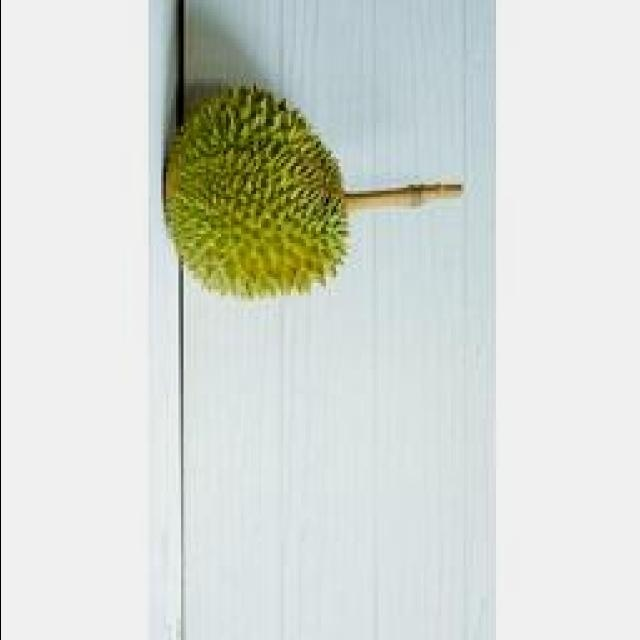agrume: (158, 73, 358, 304)
